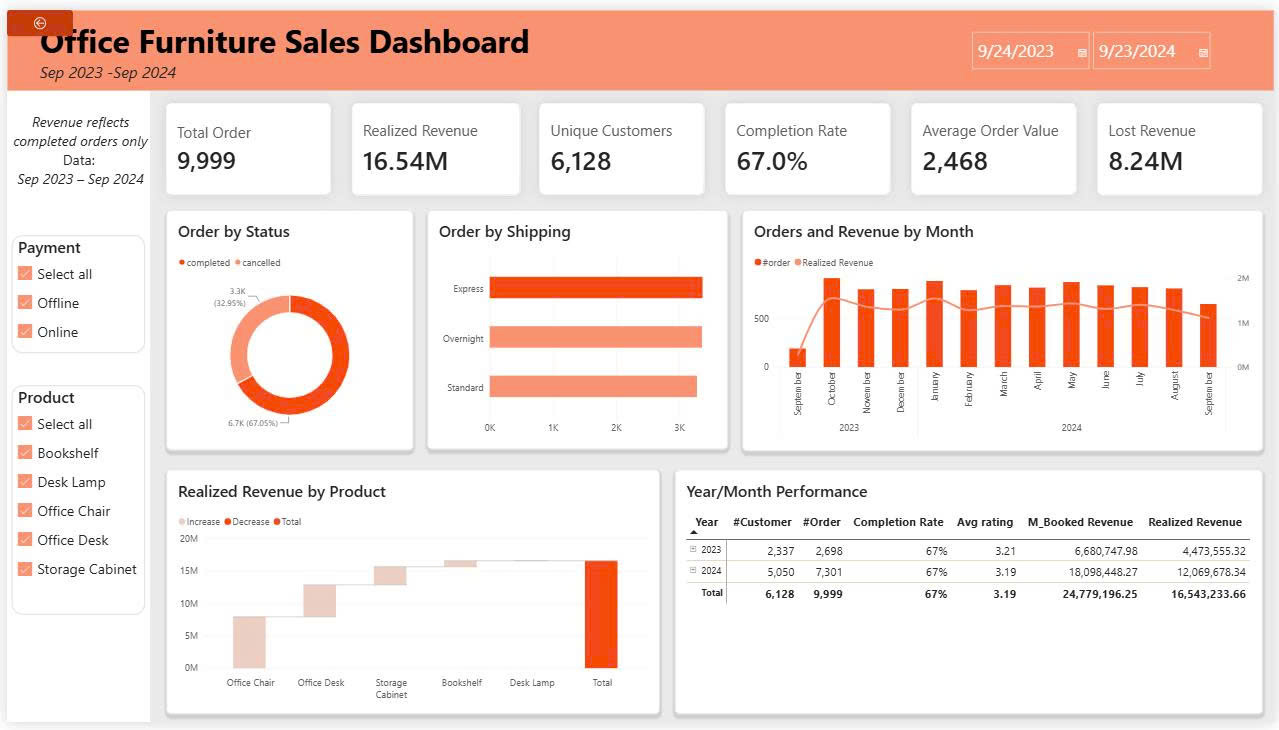

The dashboard page shown, as its layout file describes it:
{"tool":"powerbi","page":{"name":"Sales Dashboard ","canvas":[1920,1080],"ordinal":0},"visuals":[{"type":"shape","box":[0,93.3,216.7,986.7],"z":0},{"type":"shape","box":[0,0,1920,122.5],"z":1000},{"type":"textbox","box":[50.7,14.7,875,95],"z":2000},{"type":"cardVisual","fields":{"Data":["CountNonNull(orders.order id)"]},"box":[240.6,141,250,139.4],"z":3000},{"type":"cardVisual","fields":{"Data":["Measure Table.M_AOV"]},"box":[1370.2,141,250,139],"z":4000},{"type":"cardVisual","fields":{"Data":["Measure Table.M_Realized Revenue"]},"box":[521.8,141,255,140],"z":5000},{"type":"cardVisual","fields":{"Data":["*.M_Completion Rate"]},"box":[1089,141,250,139],"z":6000},{"type":"cardVisual","fields":{"Data":["Count(orders.customer id)"]},"box":[807.9,141,250,139],"z":7000},{"type":"donutChart","title":"Order by Status","fields":{"Category":["orders.Order status.new"],"Y":["CountNonNull(orders.order id)"]},"box":[240,302.5,375,365],"z":8000},{"type":"actionButton","box":[0,0,100,40],"z":9000},{"type":"lineClusteredColumnComboChart","title":"Orders and Revenue by Month","fields":{"Category":["orders.order date.Variation.Date Hierarchy.Year","orders.order date.Variation.Date Hierarchy.Month"],"Y":["CountNonNull(orders.order id)"],"Y2":["Measure Table.M_Realized Revenue"]},"box":[1112.8,302.5,789.7,366.7],"z":10000},{"type":"barChart","title":"Order by Shipping","fields":{"Category":["shipping.shipping type"],"Y":["CountNonNull(orders.order id)"]},"box":[635.7,302.5,456.4,364.1],"z":11000},{"type":"waterfallChart","title":"Realized Revenue by Product","fields":{"Category":["product.product type"],"Y":["Measure Table.M_Realized Revenue"]},"box":[241,694.9,748.7,371.8],"z":12000},{"type":"pivotTable","title":"Year/Month Performance ","fields":{"Rows":["orders.order date.Variation.Date Hierarchy.Year","orders.order date.Variation.Date Hierarchy.Month"],"Values":["Count(orders.customer id)","CountNonNull(orders.order id)","* Measure Table.M_Completion Rate","Avg(orders.feedback)","Measure Table.M_Booked Revenue","Measure Table.M_Realized Revenue"]},"box":[1010.3,694.9,892.3,371.8],"z":13000},{"type":"slicer","fields":{"Values":["payment.payment type"]},"box":[7,341,202.6,179.5],"z":14000},{"type":"slicer","fields":{"Values":["orders.order date"]},"box":[1455,27.5,392.5,70],"z":15000},{"type":"slicer","fields":{"Values":["product.product type"]},"box":[7,569.2,202.6,348.7],"z":16000},{"type":"textbox","box":[50.7,77.3,634.7,45.3],"z":17000},{"type":"cardVisual","fields":{"Data":["Measure Table.Lost Revenue"]},"box":[1651.3,141,250,140],"z":18000},{"type":"textbox","box":[0,155.4,223.1,136.9],"z":19000}]}

Visuals, with their boxes in screenshot pixels (x1, y1, x2, y2), scaled from the page's 1920x1080 canvas onto the 1279x730 screenshot:
shape: 0:63:144:729
shape: 0:0:1278:83
textbox: 34:10:617:74
cardVisual - CountNonNull(orders.order id): 160:95:327:190
cardVisual - Measure Table.M_AOV: 913:95:1079:189
cardVisual - Measure Table.M_Realized Revenue: 348:95:517:190
cardVisual - *.M_Completion Rate: 725:95:892:189
cardVisual - Count(orders.customer id): 538:95:705:189
"Order by Status" donutChart: 160:204:410:451
actionButton: 0:0:67:27
"Orders and Revenue by Month" lineClusteredColumnComboChart: 741:204:1267:452
"Order by Shipping" barChart: 423:204:727:451
"Realized Revenue by Product" waterfallChart: 161:470:659:721
"Year/Month Performance " pivotTable: 673:470:1267:721
slicer - payment.payment type: 5:230:140:352
slicer - orders.order date: 969:19:1231:66
slicer - product.product type: 5:385:140:620
textbox: 34:52:457:83
cardVisual - Measure Table.Lost Revenue: 1100:95:1267:190
textbox: 0:105:149:198
